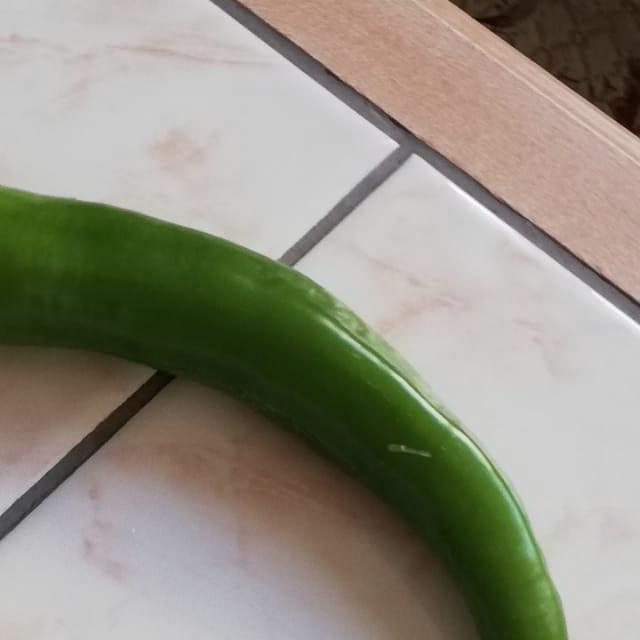chili_pepper: (0, 139, 585, 640)
